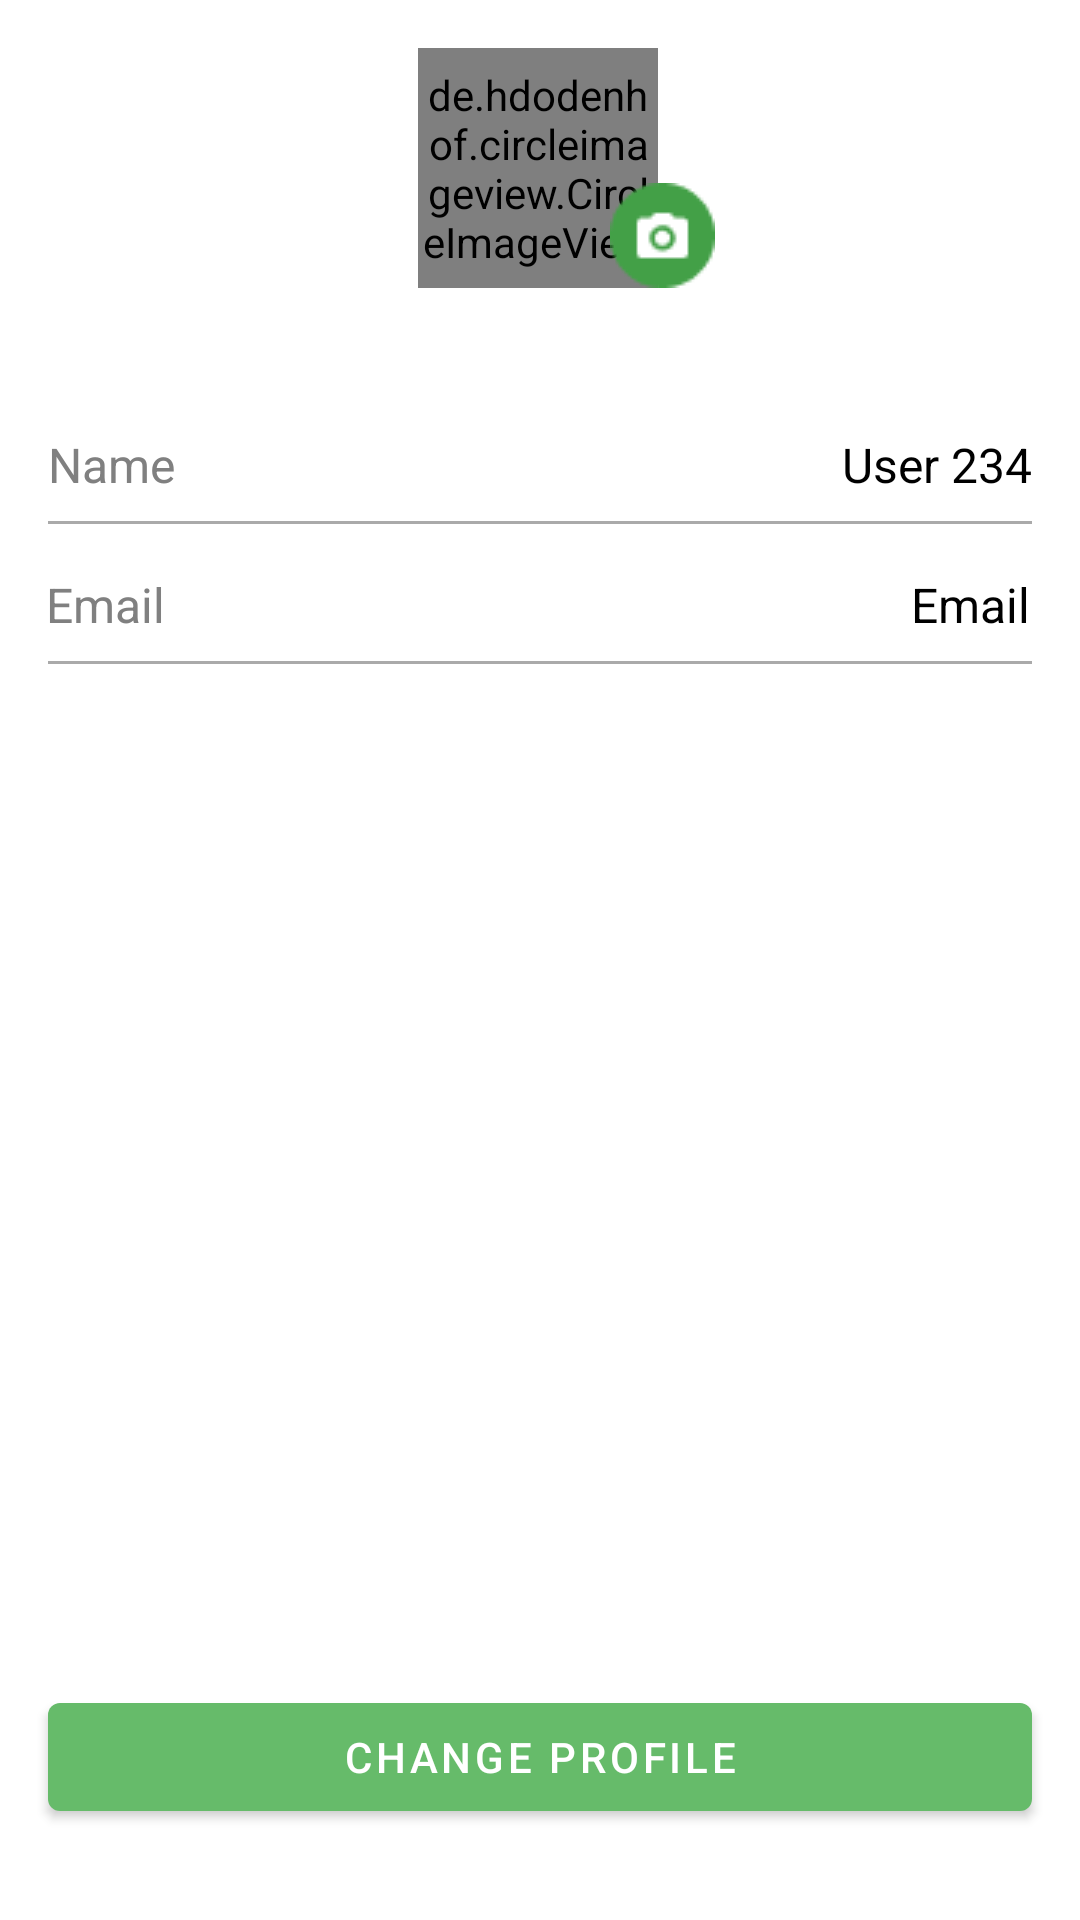

Locate icon controls on the screen. Image size 1080×1920, boxes as (x1, y1, x2, y2).
profile camera: (610, 183, 715, 288)
